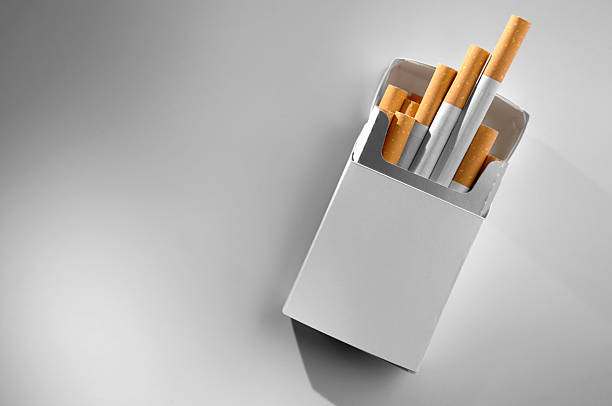cigarette: (280, 54, 533, 375), (429, 14, 532, 188), (407, 44, 490, 181), (395, 63, 458, 171), (449, 122, 499, 194), (380, 111, 415, 165), (377, 81, 410, 114), (401, 96, 421, 117)
